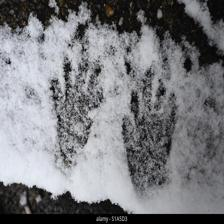raccoon: (42, 49, 111, 176), (118, 69, 179, 198)
